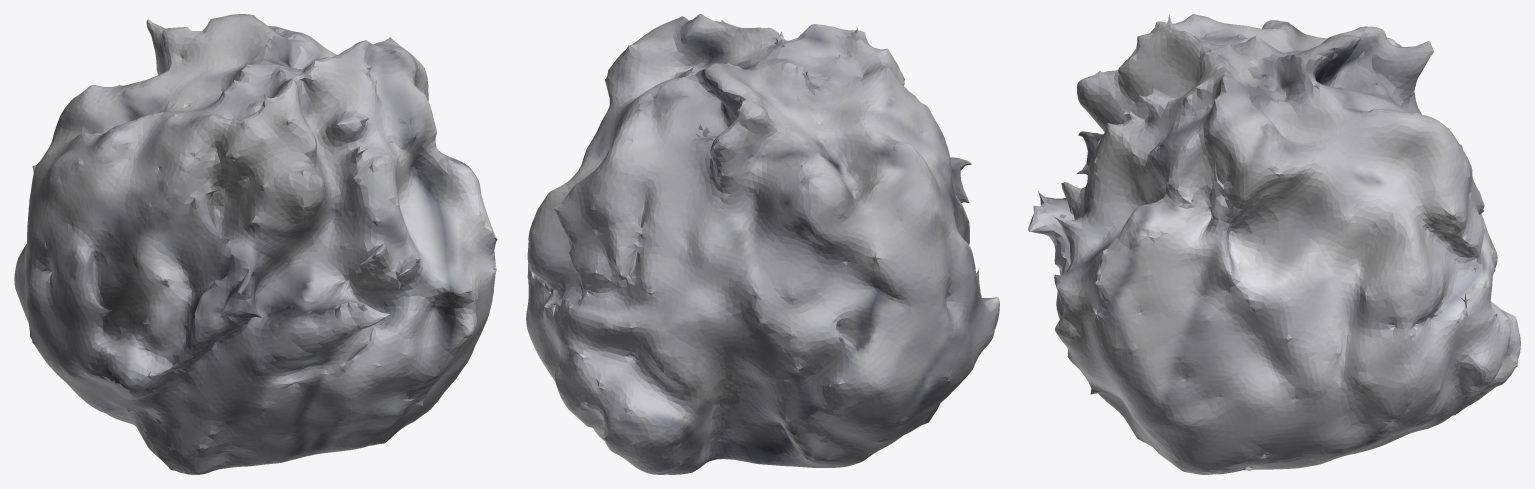
Rendered from model_Paper_20190921_114116665.obj.
The picture shows the model from 3 angles, left to right: view 1: azimuth 30°, elevation 25°; view 2: azimuth 150°, elevation 25°; view 3: azimuth 270°, elevation 25°; orthographic projection. The views are drawn at different scales.
Size of the model in its own units: 33.7 by 31.35 by 36.83.
Materials: 1 (1 with a texture image).
